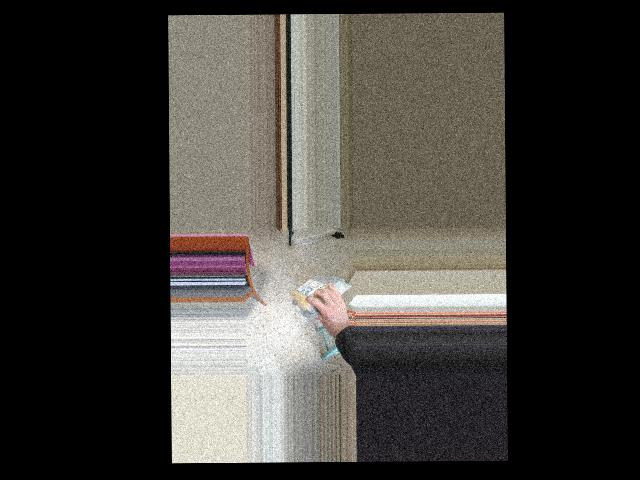cheese: (284, 279, 348, 307)
